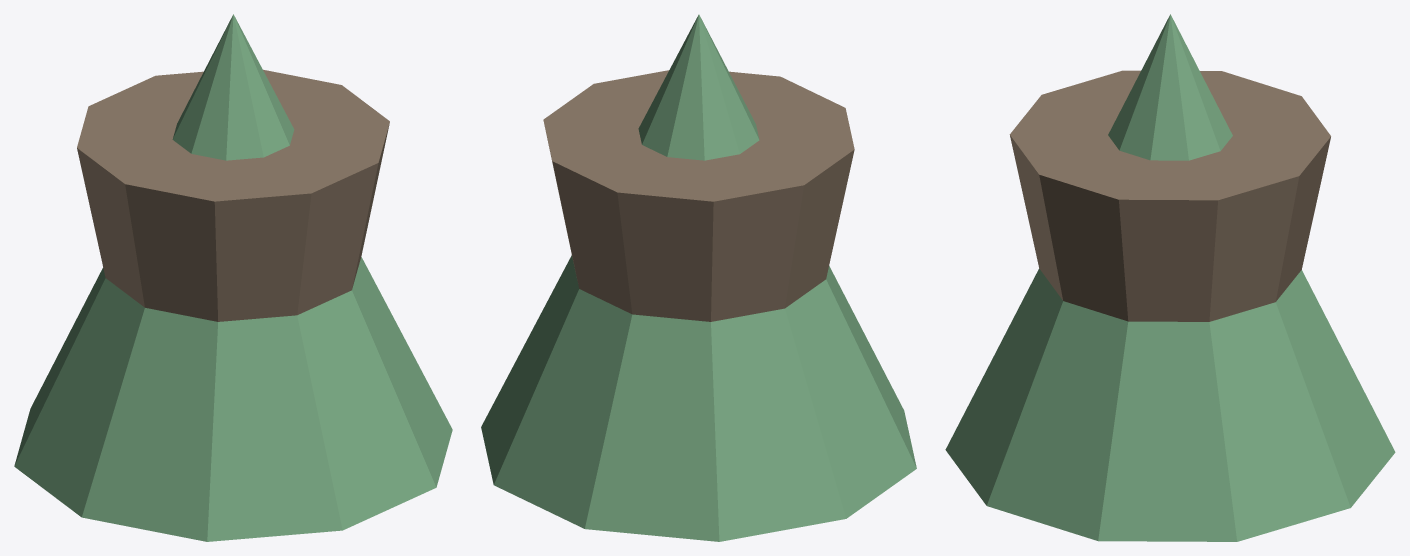
The model's file is nature_topiary_cone.glb.
The picture shows the model from 3 angles, left to right: view 1: azimuth 30°, elevation 25°; view 2: azimuth 150°, elevation 25°; view 3: azimuth 270°, elevation 25°; orthographic projection.
Visible parts, largest first — view 1: world; view 2: world; view 3: world.
Boxes of the visible parts, box(x1,y1,x2,y2) form: world: box(14, 14, 452, 541); world: box(481, 14, 916, 541); world: box(945, 14, 1395, 541).
Size of the model in its own units: 1.78 by 2 by 1.87.
